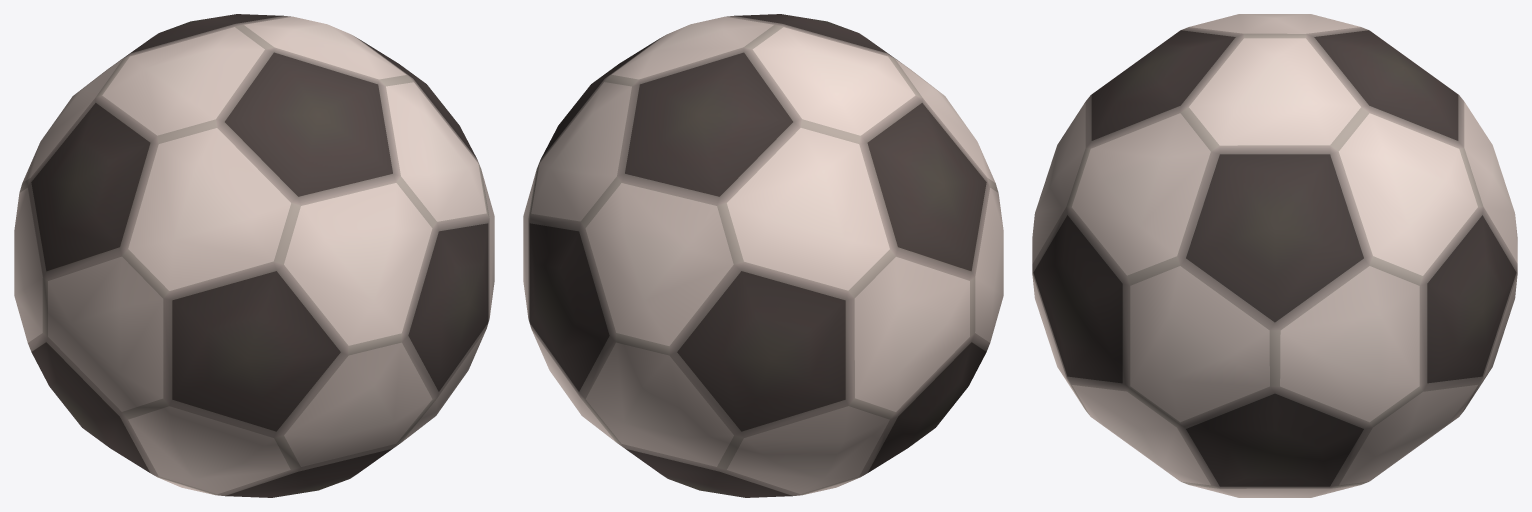
The model's file is soccerBall.fbx.
3 renders of one model, left to right at view 1: azimuth 30°, elevation 25°; view 2: azimuth 150°, elevation 25°; view 3: azimuth 270°, elevation 25°, orthographic.
Visible parts, largest first — view 1: soccerBall; view 2: soccerBall; view 3: soccerBall.
Part boxes in pixels (x1,y1,x2,y2): soccerBall: [14, 14, 494, 497]; soccerBall: [523, 14, 1003, 497]; soccerBall: [1032, 14, 1517, 497].
Size of the model in its own units: 21.86 by 21.86 by 21.86.
